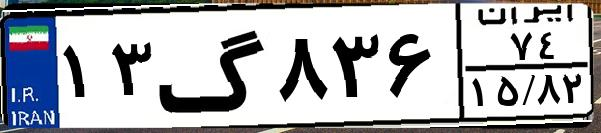1: (57, 26, 110, 100), (470, 70, 495, 125)
2: (560, 70, 590, 125)
3: (330, 28, 385, 110), (110, 28, 156, 98)
4: (537, 27, 568, 80)
5: (495, 70, 520, 125)
6: (385, 28, 445, 110)
7: (508, 27, 537, 80)
8: (270, 28, 330, 110), (535, 70, 560, 125)
گ: (156, 12, 270, 120)
